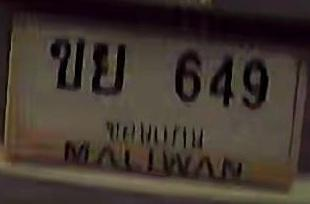number: (45, 21, 274, 114)
province: (101, 111, 207, 154)
